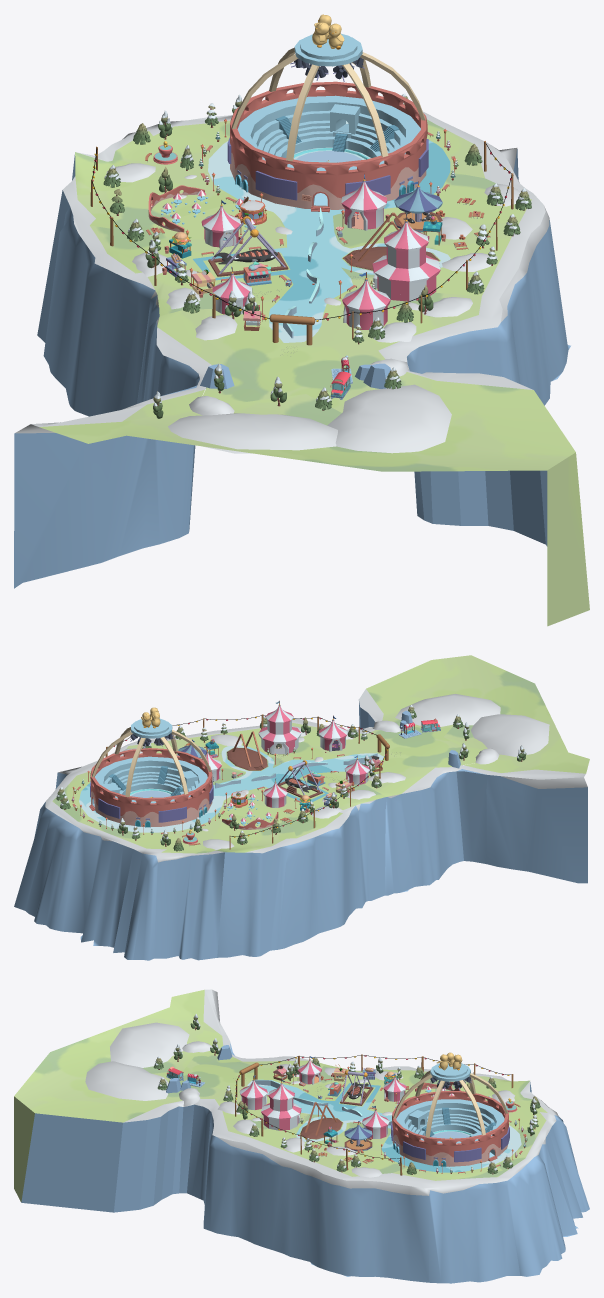
Rendered from Individual_JamboreeSquare_03.fbx.
3 views of the same model, one above another, from view 1: azimuth 30°, elevation 25°; view 2: azimuth 150°, elevation 25°; view 3: azimuth 270°, elevation 25° (orthographic). The views are drawn at different scales.
Visible parts, largest first — view 1: Berg, Arena1_Ande, pasted__pasted__SnowPatch14, pasted__pasted__SnowPatch15, pasted__TENT02, polySurface36, pasted__pCylinder5, pasted__TENT08, pasted__PM3D_Sphere3D_3, pasted__TENT09, polySurface75, pasted__pasted__Object_Lights (+5 smaller); view 2: Berg, Arena1_Ande, pasted__pasted__SnowPatch15, pasted__pasted__SnowPatch14, pasted__TENT02, polySurface75, pasted__pCylinder5, polySurface36, pasted__Walls1_Ande, pasted__TENT05, pasted__TENT09; view 3: Berg, Arena1_Ande, pasted__pasted__SnowPatch15, pasted__pasted__SnowPatch14, pasted__TENT02, polySurface75, pasted__pCylinder5, pasted__PM3D_Sphere3D_3, polySurface36, pasted__TENT08, pasted__pasted__Object_Lights, pasted__pasted__Object_Lights1 (+3 smaller).
Part boxes in pixels (x1,y1,x2,y2): Berg: (14,111,589,626); Arena1_Ande: (227,33,428,212); pasted__pasted__SnowPatch14: (327,384,451,453); pasted__pasted__SnowPatch15: (168,413,337,453); pasted__TENT02: (372,213,440,301); polySurface36: (342,272,390,329); pasted__pCylinder5: (208,216,288,276); pasted__TENT08: (341,173,386,230); pasted__PM3D_Sphere3D_3: (394,181,442,232); pasted__TENT09: (201,200,240,248); polySurface75: (343,212,439,270); pasted__pasted__Object_Lights: (315,141,513,339); Berg: (14,655,589,960); Arena1_Ande: (89,718,213,826); pasted__pasted__SnowPatch15: (471,714,549,756); pasted__pasted__SnowPatch14: (395,694,500,726); pasted__TENT02: (258,700,301,754); polySurface75: (227,731,267,770); pasted__pCylinder5: (277,760,322,797); polySurface36: (318,715,347,751); pasted__Walls1_Ande: (215,753,377,788); pasted__TENT05: (344,755,369,784); pasted__TENT09: (263,778,287,807); Berg: (14,989,589,1283); Arena1_Ande: (391,1063,509,1166); pasted__pasted__SnowPatch15: (110,1022,189,1067); pasted__pasted__SnowPatch14: (85,1061,168,1100); pasted__TENT02: (261,1079,301,1130); polySurface75: (300,1102,342,1139); pasted__pCylinder5: (340,1070,373,1105); pasted__PM3D_Sphere3D_3: (344,1120,372,1151); polySurface36: (239,1075,267,1110); pasted__TENT08: (362,1106,389,1138); pasted__pasted__Object_Lights: (235,1073,402,1175); pasted__pasted__Object_Lights1: (259,1054,513,1087).
Size of the model in its own units: 13503 by 5613 by 16493.
